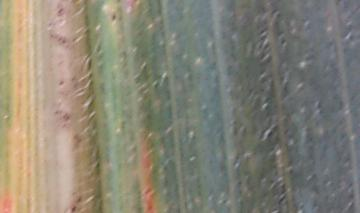tarspot: (111, 11, 117, 22), (70, 205, 77, 213)
